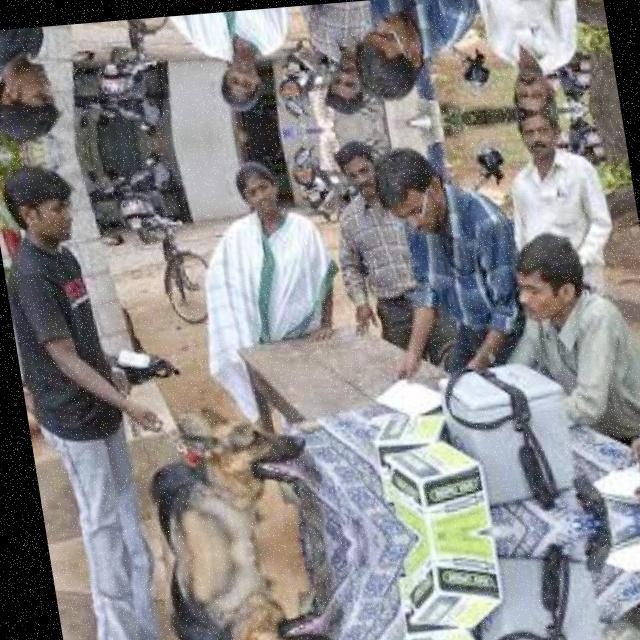dog: (150, 407, 330, 558), (172, 545, 350, 640)
person: (0, 148, 167, 568), (376, 138, 536, 385), (200, 150, 350, 367), (512, 236, 640, 453), (500, 106, 632, 257), (176, 6, 310, 119), (480, 0, 610, 115), (352, 0, 490, 103), (0, 24, 101, 155), (60, 558, 186, 640), (569, 590, 640, 640)
